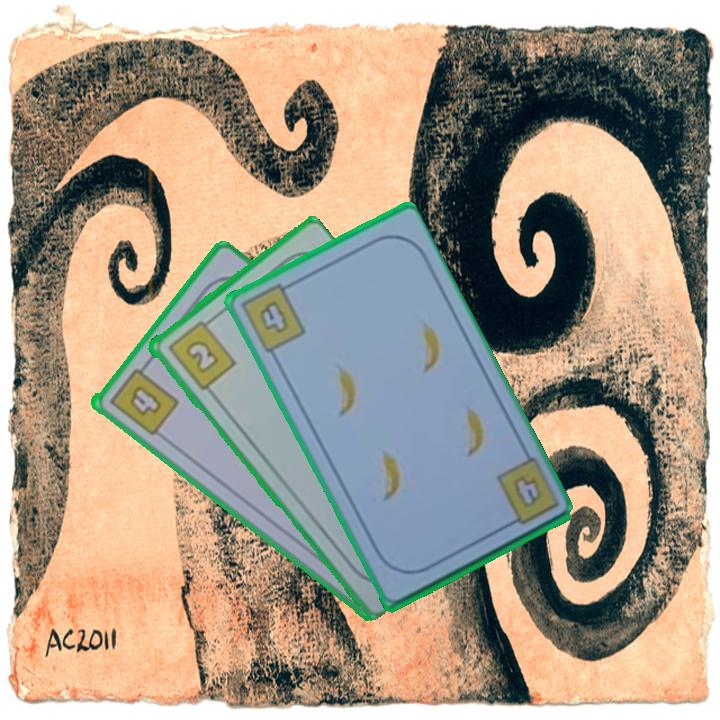2b: (163, 314, 238, 393)
4b: (104, 358, 181, 439), (237, 278, 308, 356), (508, 471, 544, 511)
